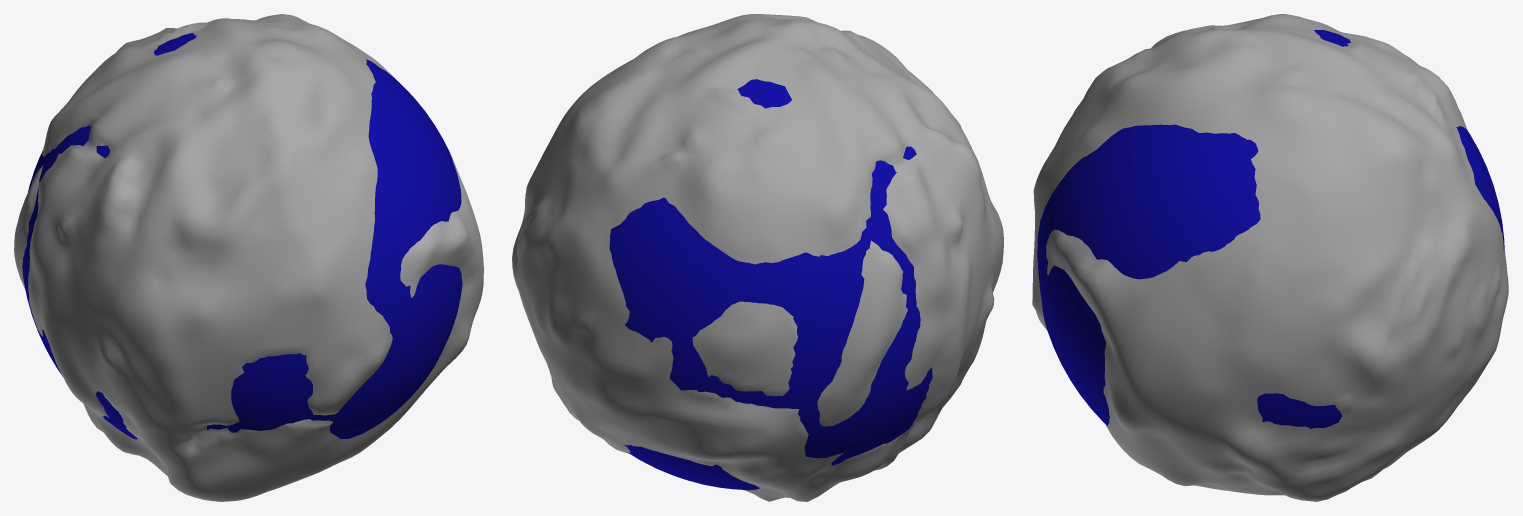
Rendered from Planet.obj.
3 renders of one model, left to right at view 1: azimuth 30°, elevation 25°; view 2: azimuth 150°, elevation 25°; view 3: azimuth 270°, elevation 25°, orthographic. The views are drawn at different scales.
Parts seen in each view (by area): view 1: Icosphere, Ocean_Icosphere.002; view 2: Icosphere, Ocean_Icosphere.002; view 3: Icosphere, Ocean_Icosphere.002.
Part boxes in pixels (bbox=[...]): Icosphere: bbox=[14, 14, 483, 501]; Ocean_Icosphere.002: bbox=[22, 33, 462, 439]; Icosphere: bbox=[512, 14, 1003, 501]; Ocean_Icosphere.002: bbox=[609, 79, 932, 490]; Icosphere: bbox=[1032, 14, 1508, 501]; Ocean_Icosphere.002: bbox=[1037, 30, 1504, 428].
Size of the model in its own units: 409 by 423 by 406.
